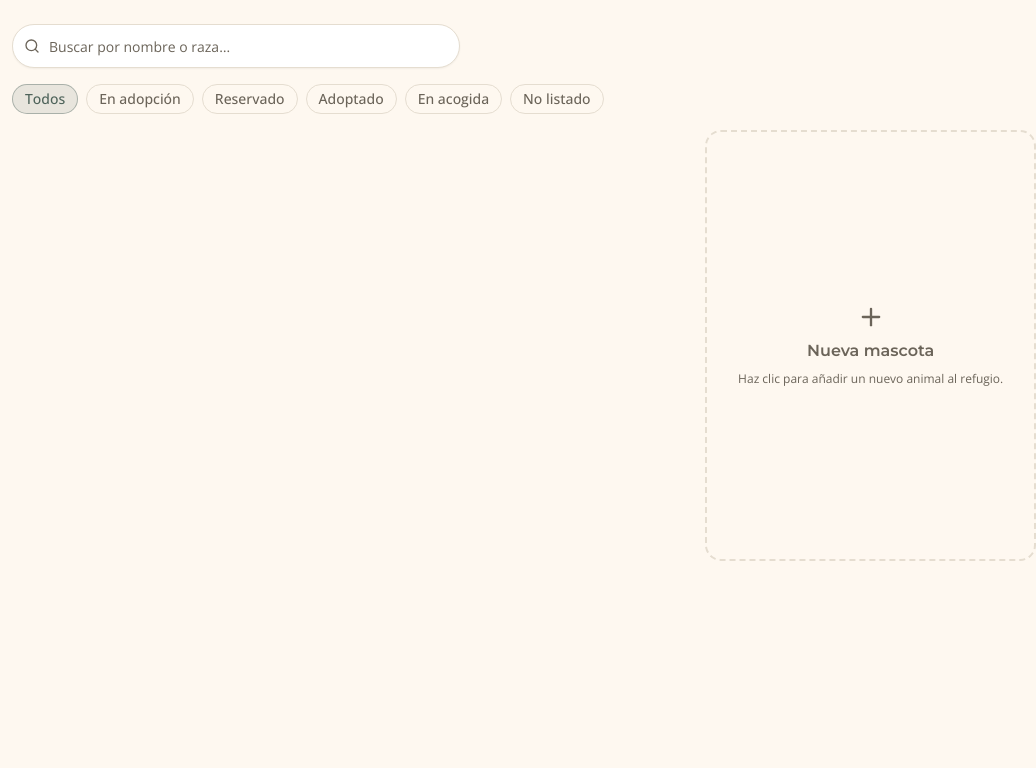
Scenario: AnimalesGrid › la búsqueda filtra por raza
Type "mestizo" into the search field with placeholder "Buscar por nombre o raza…" at (236, 46), box [12,24,460,68]
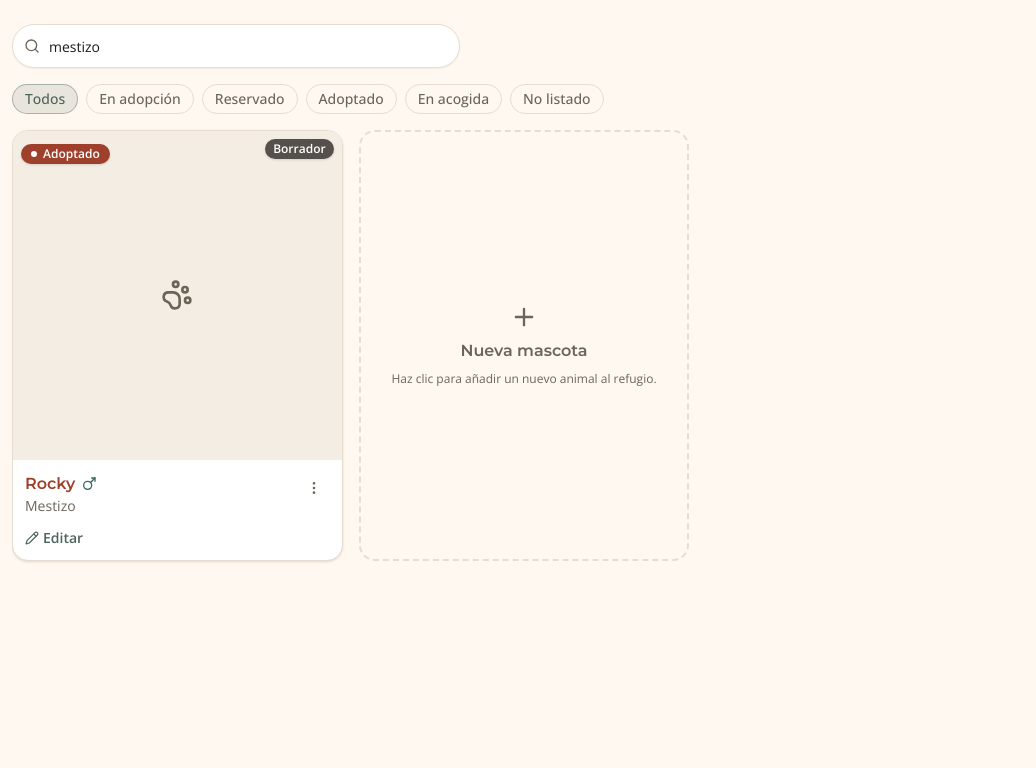
Now the text "Rocky" is shown, box [25,472,97,496]
